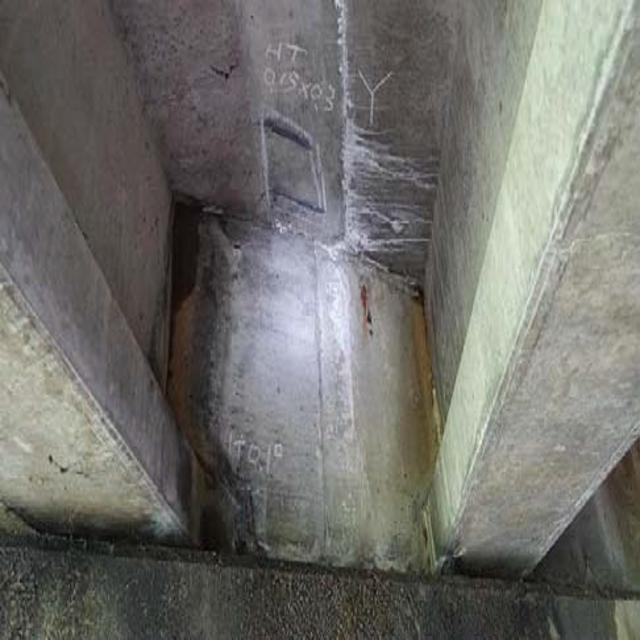freelime: (330, 26, 430, 291)
